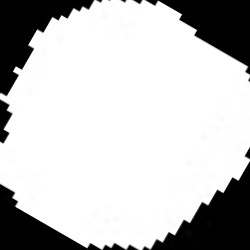spot: (1, 0, 248, 248)
